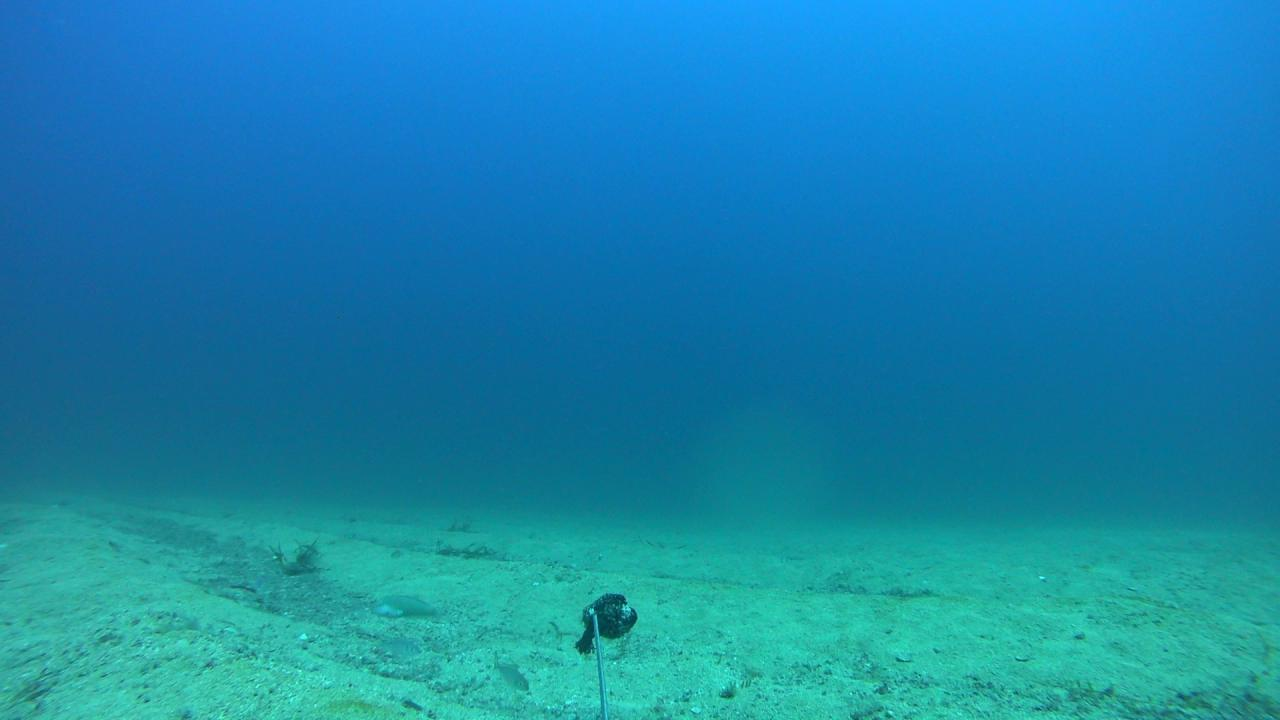pagellus: (490, 652, 532, 692), (370, 641, 422, 659)
raor: (370, 594, 456, 619)
